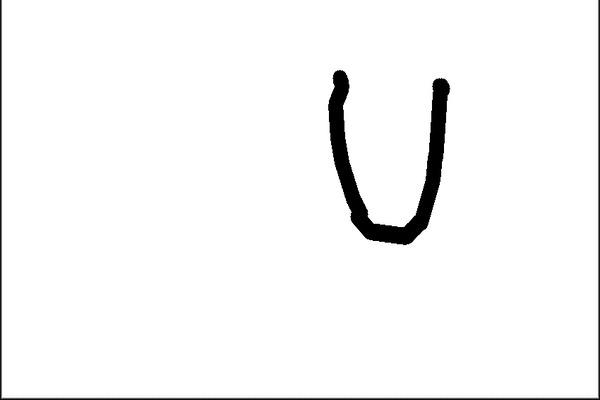U: (321, 61, 459, 251)
